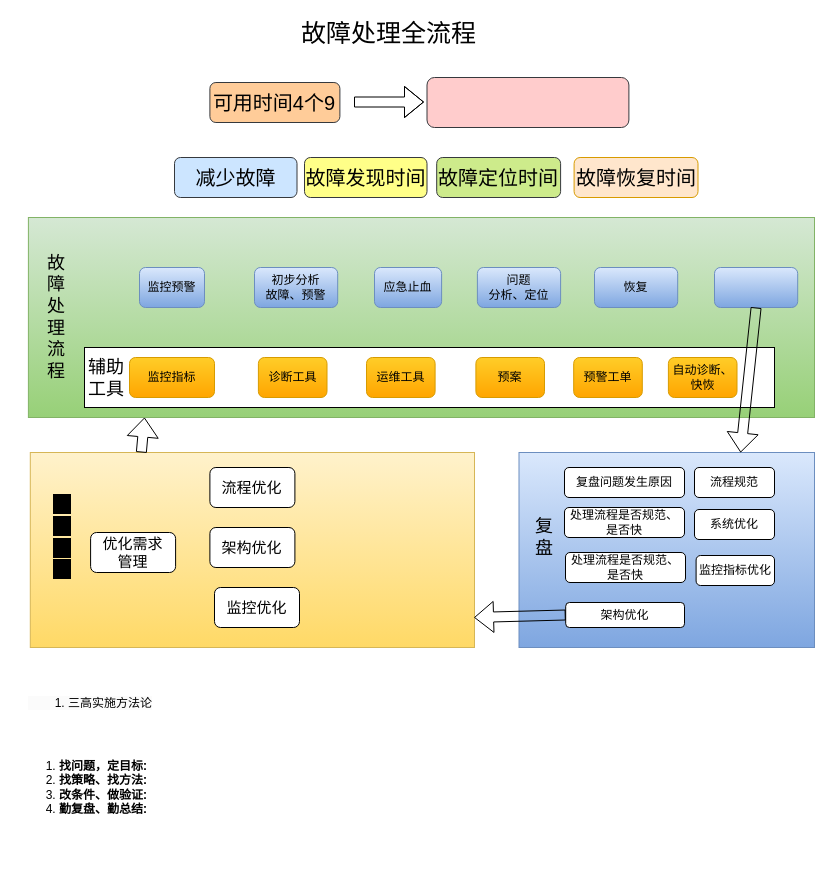
Some shapes in this 832 by 874 pixel diagram are drawn without their labels. The centre of each missing label's shape, as x and y in pixels:
减少故障(不可用)时间: (527,102)
复盘: (756,287)
